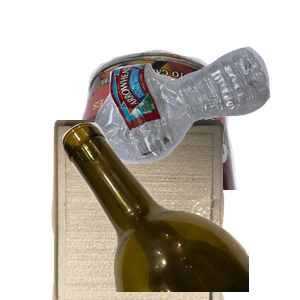glass: (60, 120, 300, 300)
metal: (62, 47, 300, 227)
plastic: (72, 44, 300, 200)
trash: (49, 120, 269, 300)
